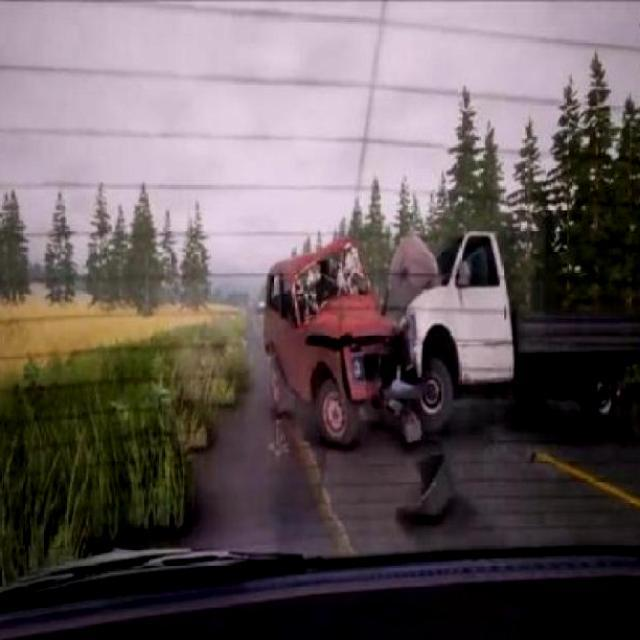accident: (306, 256, 510, 428)
